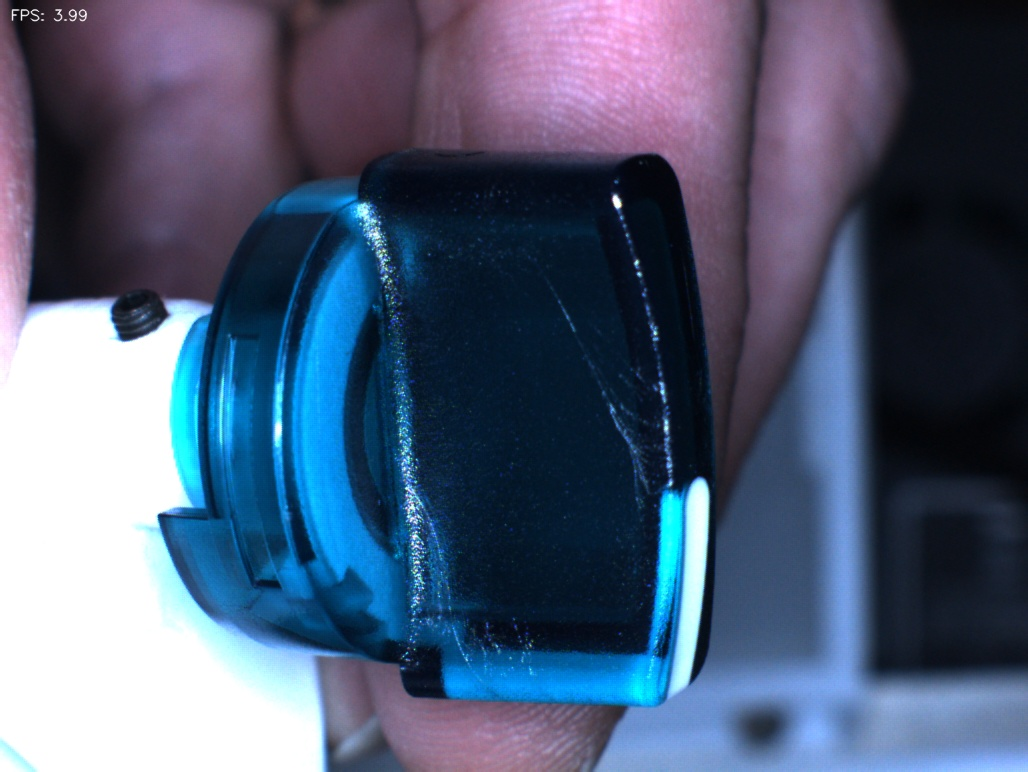Givrage: (535, 260, 672, 498)
